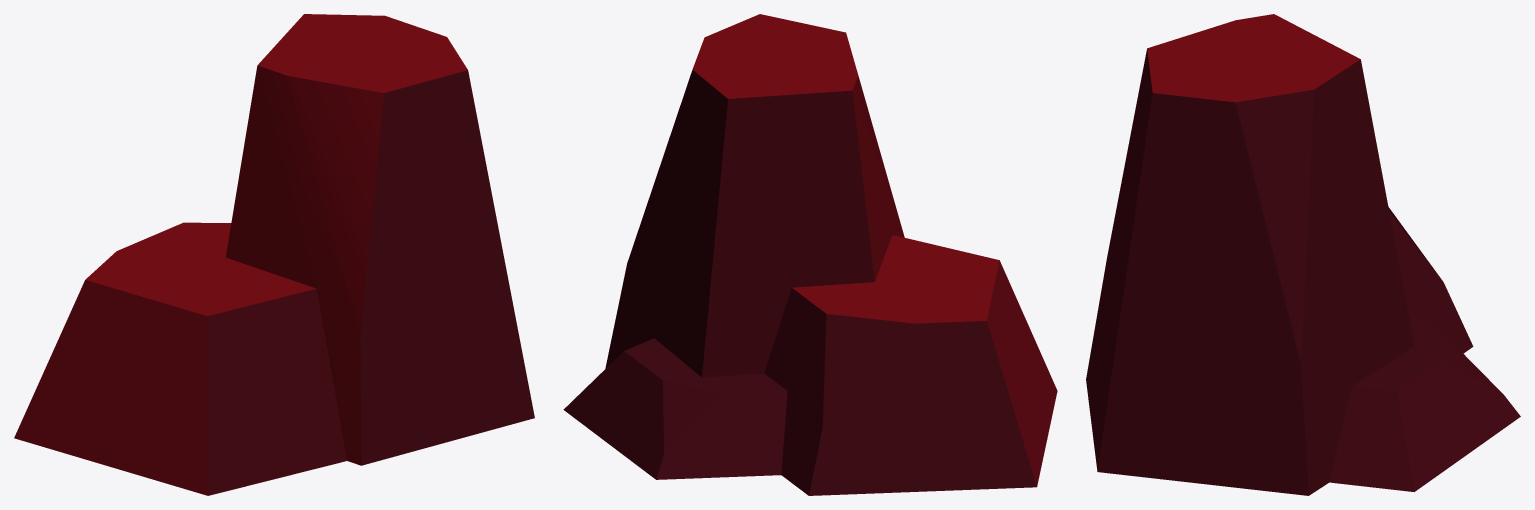
The model's file is rockA1.fbx.
3 renders of one model, left to right at view 1: azimuth 30°, elevation 25°; view 2: azimuth 150°, elevation 25°; view 3: azimuth 270°, elevation 25°, orthographic. The views are drawn at different scales.
Parts seen in each view (by area): view 1: rockA1; view 2: rockA1; view 3: rockA1.
Part boxes in pixels (x1,y1,x2,y2): rockA1: [14, 14, 534, 495]; rockA1: [563, 14, 1057, 495]; rockA1: [1086, 14, 1520, 495].
Bounding box in the file's own units: 114 × 80.77 × 88.93.
